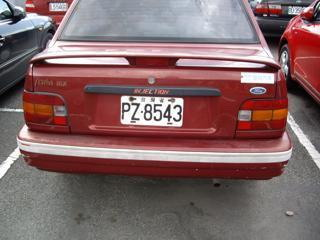plate: (120, 95, 186, 128)
